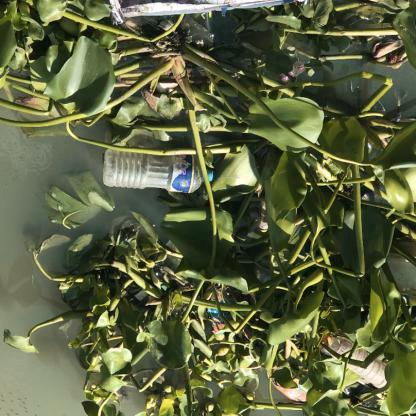Plastic: (97, 144, 218, 197)
